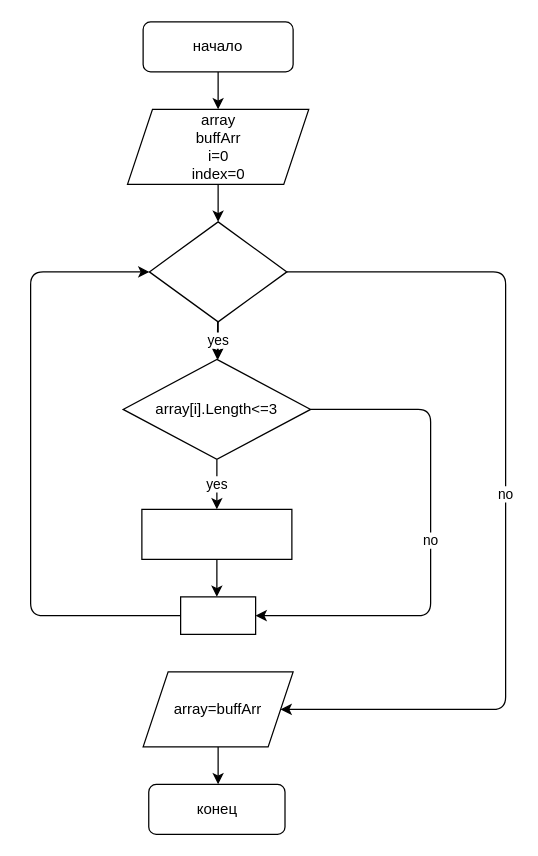
Some shapes in this 538 by 856 pixel diagram are drawn without their labels. The box of each missing label's shape, as (x1, y1, x2, y2) in pixels:
buffArr[index]=array[i] index++: (141, 508, 292, 559)
i++: (179, 596, 256, 634)
i<array.Length: (148, 221, 287, 322)
